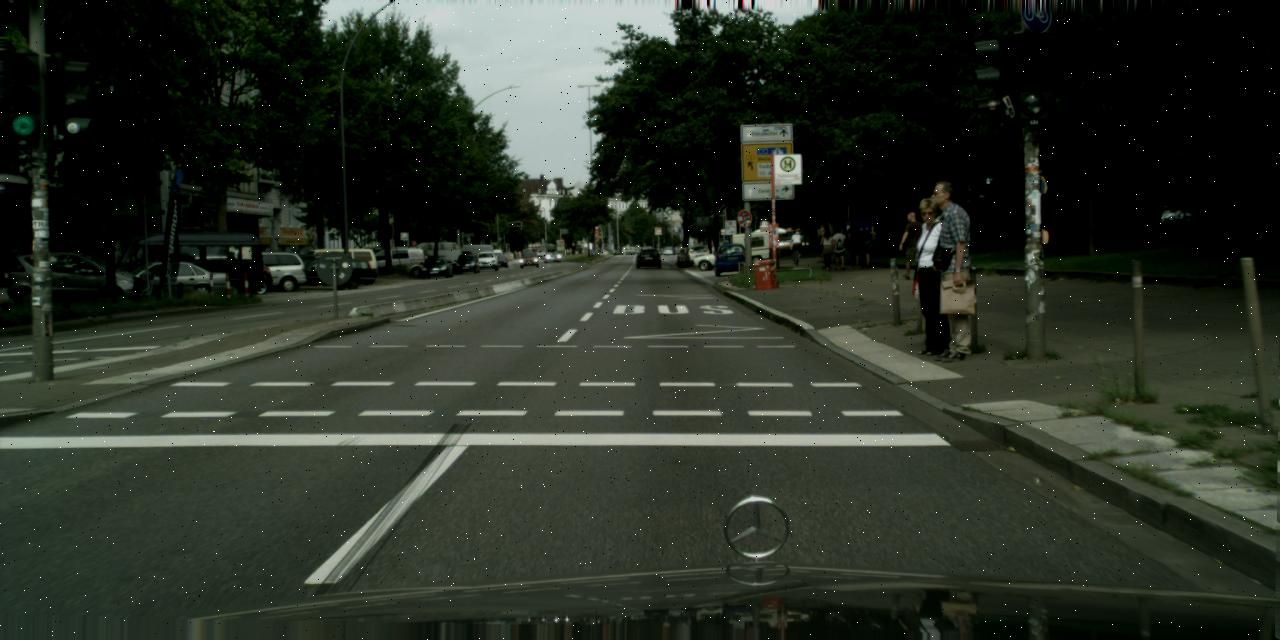ped: (912, 179, 985, 359), (899, 198, 962, 354), (898, 211, 926, 279), (829, 225, 848, 269), (844, 223, 862, 268), (856, 226, 872, 267), (820, 230, 836, 270), (791, 230, 801, 258)
